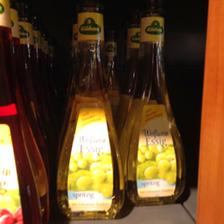Essig: (53, 9, 133, 218), (119, 15, 193, 204)
